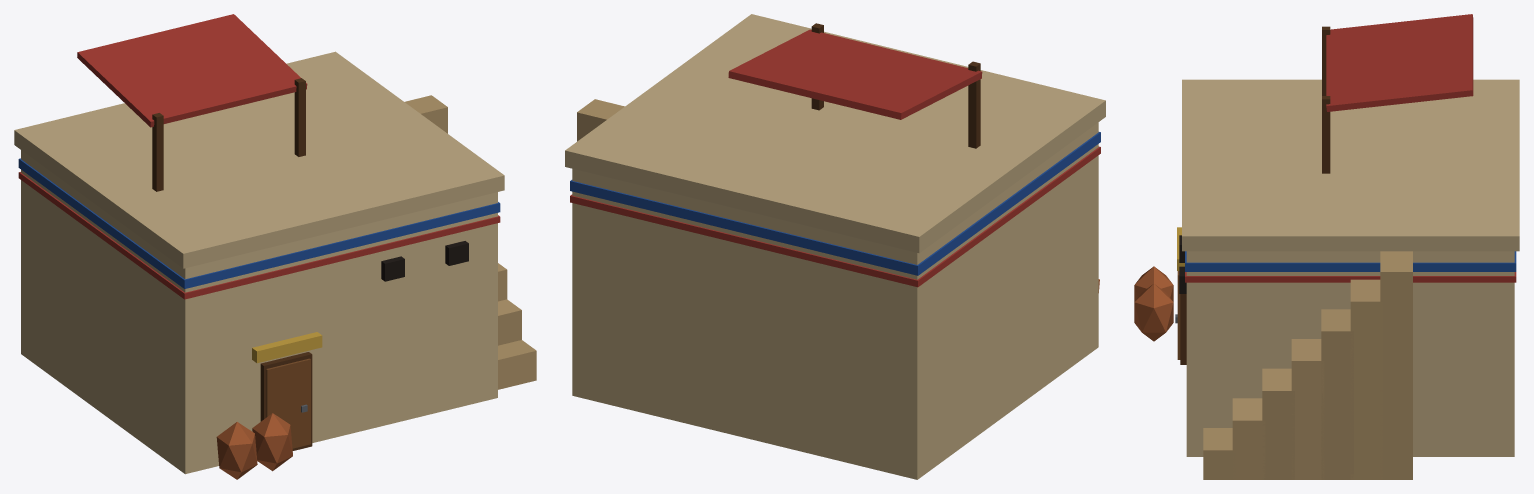
Rendered from gnoll_house_a_broken.glb.
3 renders of one model, left to right at view 1: azimuth 30°, elevation 25°; view 2: azimuth 150°, elevation 25°; view 3: azimuth 270°, elevation 25°, orthographic. The views are drawn at different scales.
Visible parts, largest first — view 1: gnoll_house_a_piece1, gnoll_house_a_piece4, gnoll_house_a_piece8, gnoll_house_a_piece3, gnoll_house_a_piece7, gnoll_house_a_piece11, gnoll_house_a_piece10, gnoll_house_a_piece5, gnoll_house_a_piece6, gnoll_house_a_piece2, gnoll_house_a_piece0; view 2: gnoll_house_a_piece5, gnoll_house_a_piece4, gnoll_house_a_piece6, gnoll_house_a_piece1, gnoll_house_a_piece3, gnoll_house_a_piece7, gnoll_house_a_piece2, gnoll_house_a_piece10, gnoll_house_a_piece8, gnoll_house_a_piece0, gnoll_house_a_piece11; view 3: gnoll_house_a_piece6, gnoll_house_a_piece8, gnoll_house_a_piece4, gnoll_house_a_piece7, gnoll_house_a_piece1, gnoll_house_a_piece11, gnoll_house_a_piece5, gnoll_house_a_piece2, gnoll_house_a_piece0, gnoll_house_a_piece10, gnoll_house_a_piece9.
Part boxes in pixels (x1,y1,x2,y2): gnoll_house_a_piece1: (114,192,474,479); gnoll_house_a_piece4: (14,14,254,296); gnoll_house_a_piece8: (383,138,536,403); gnoll_house_a_piece3: (36,211,149,447); gnoll_house_a_piece7: (253,34,452,147); gnoll_house_a_piece11: (177,100,408,201); gnoll_house_a_piece10: (68,106,248,219); gnoll_house_a_piece5: (21,102,253,364); gnoll_house_a_piece6: (286,51,447,133); gnoll_house_a_piece2: (251,70,345,157); gnoll_house_a_piece0: (141,104,236,195); gnoll_house_a_piece5: (653,147,950,479); gnoll_house_a_piece4: (728,44,985,367); gnoll_house_a_piece6: (565,99,684,401); gnoll_house_a_piece1: (873,43,1105,375); gnoll_house_a_piece3: (934,163,1058,467); gnoll_house_a_piece7: (618,23,823,164); gnoll_house_a_piece2: (597,31,870,417); gnoll_house_a_piece10: (852,73,1030,252); gnoll_house_a_piece8: (695,14,873,70); gnoll_house_a_piece0: (874,61,984,148); gnoll_house_a_piece11: (763,48,949,130); gnoll_house_a_piece6: (1310,190,1519,479); gnoll_house_a_piece8: (1179,179,1336,479); gnoll_house_a_piece4: (1326,14,1519,172); gnoll_house_a_piece7: (1284,85,1491,323); gnoll_house_a_piece1: (1134,79,1321,364); gnoll_house_a_piece11: (1189,44,1345,217); gnoll_house_a_piece5: (1424,117,1519,197); gnoll_house_a_piece2: (1317,79,1455,456); gnoll_house_a_piece0: (1274,26,1349,142); gnoll_house_a_piece10: (1319,26,1379,151); gnoll_house_a_piece9: (1322,430,1356,479).
Bounding box in the file's own units: 2.56 × 2.09 × 2.35.
